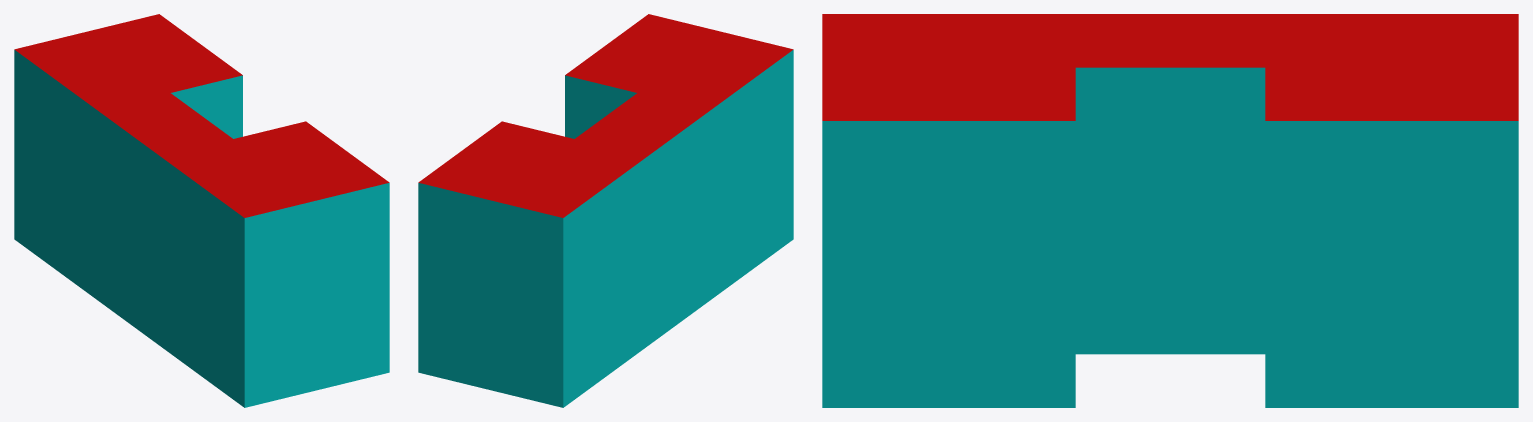
The model's file is SimpleBuilding_01.fbx.
The picture shows the model from 3 angles, left to right: view 1: azimuth 30°, elevation 25°; view 2: azimuth 150°, elevation 25°; view 3: azimuth 270°, elevation 25°; orthographic projection. The views are drawn at different scales.
Visible parts, largest first — view 1: Rectangle_1; view 2: Rectangle_1; view 3: Rectangle_1.
Boxes of the visible parts, x1=… form: Rectangle_1: x1=14, y1=14, x2=389, y2=407; Rectangle_1: x1=418, y1=14, x2=793, y2=407; Rectangle_1: x1=822, y1=14, x2=1518, y2=407.
Bounding box in the file's own units: 400 × 500 × 1100.
